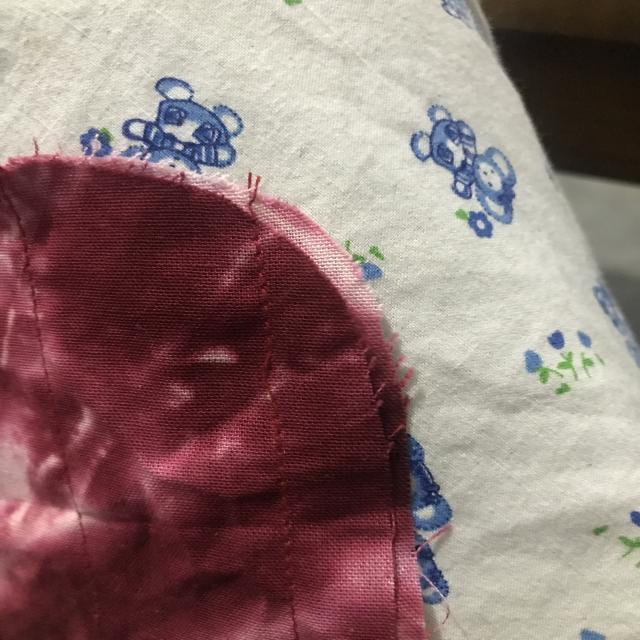skip: (244, 342, 301, 410)
